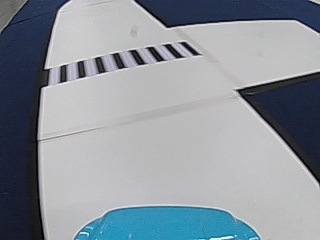CrossWalk: (52, 41, 192, 83)
